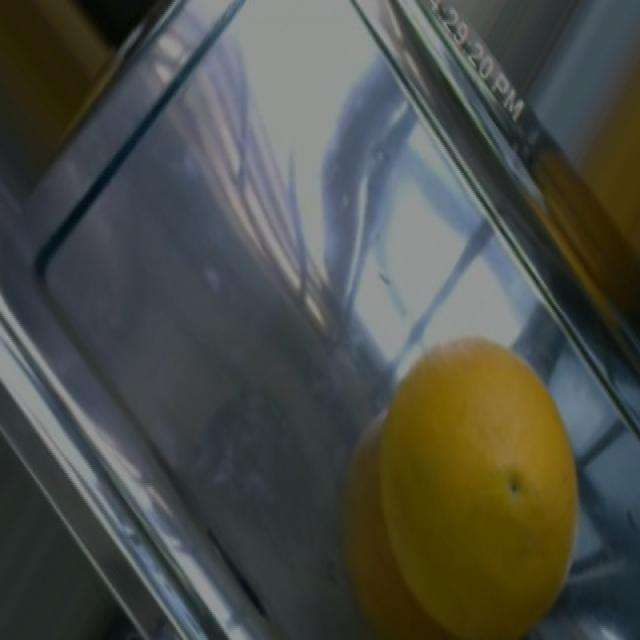Fruit: (323, 314, 600, 640)
